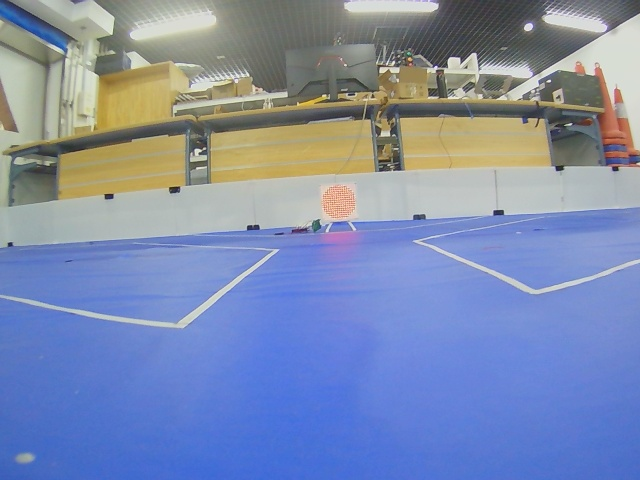red: (321, 184, 357, 221)
